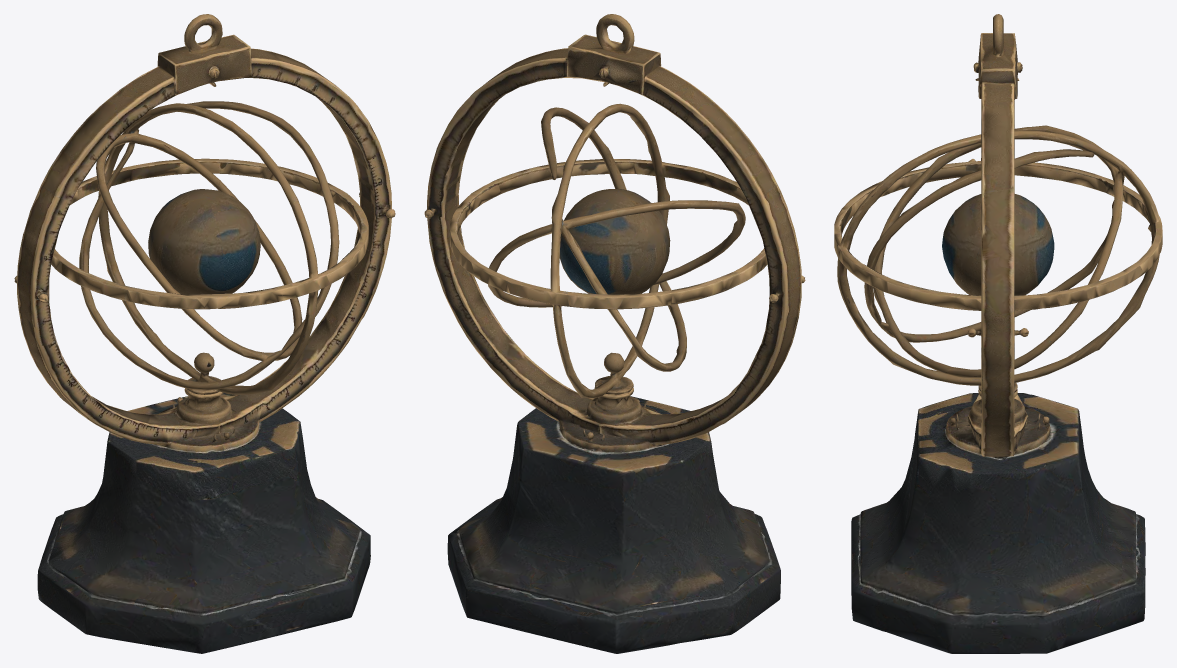
The model's file is observatory-armillary.glb.
3 renders of one model, left to right at view 1: azimuth 30°, elevation 25°; view 2: azimuth 150°, elevation 25°; view 3: azimuth 270°, elevation 25°, orthographic.
Bounding box in the file's own units: 1.26 × 1.9 × 0.9957.
Materials: 1 (1 with a texture image).
